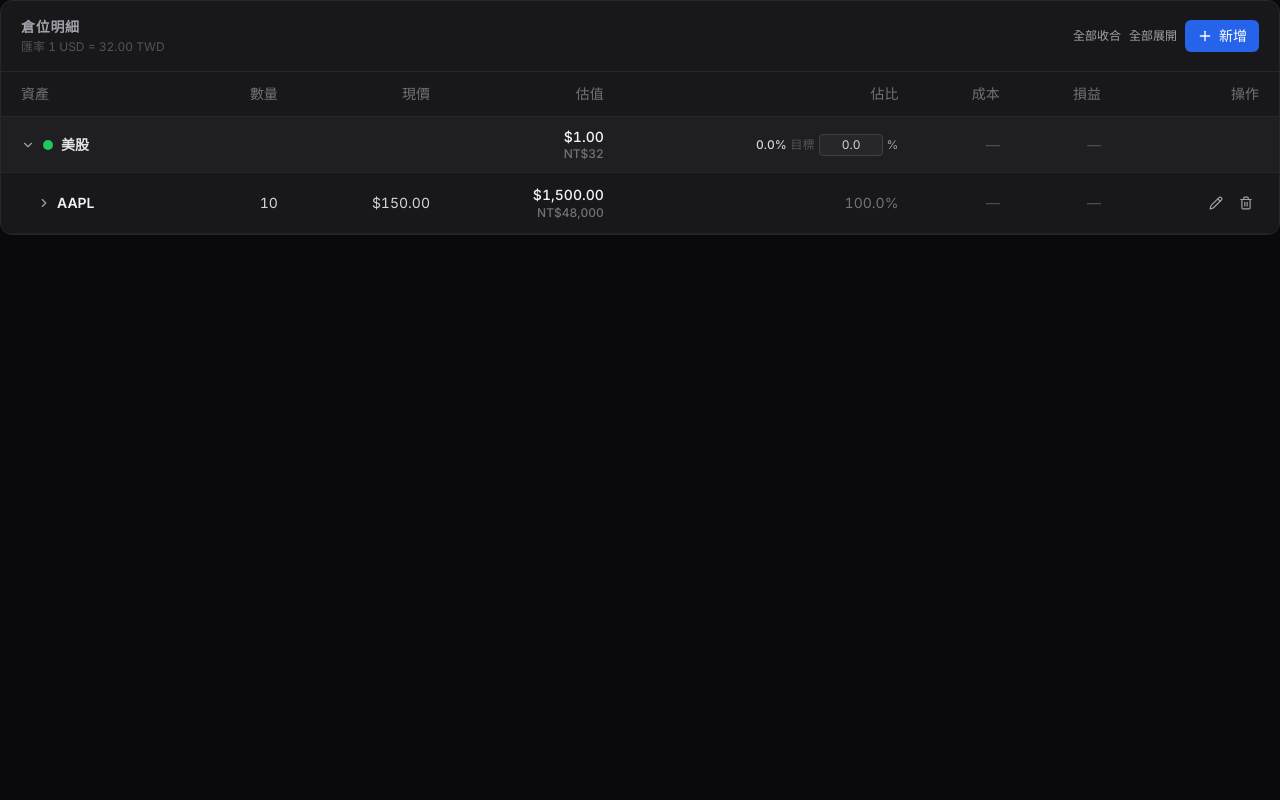
PositionTable › trash button does not toggle expand, shows position confirm dialog
Note: Expand first
Click the text "AAPL". click: x=76, y=203
box: top-left (57, 193), bottom-right (94, 213)
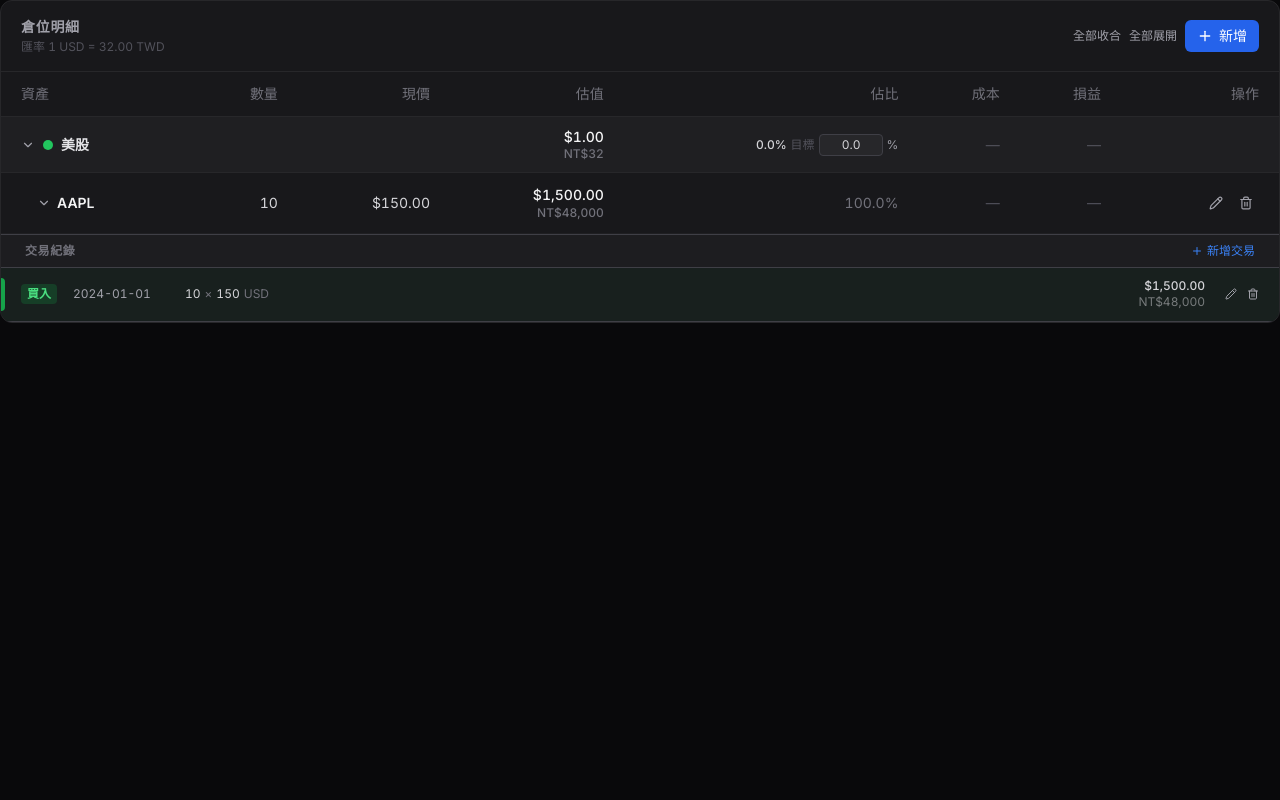
Expected: the text "買入" is shown, top-left (21, 284), bottom-right (57, 304)
Note: Click position delete — sub-table stays open, dialog appears
Click the button titled "刪除". click: x=1246, y=203
box: top-left (1233, 190), bottom-right (1259, 216)
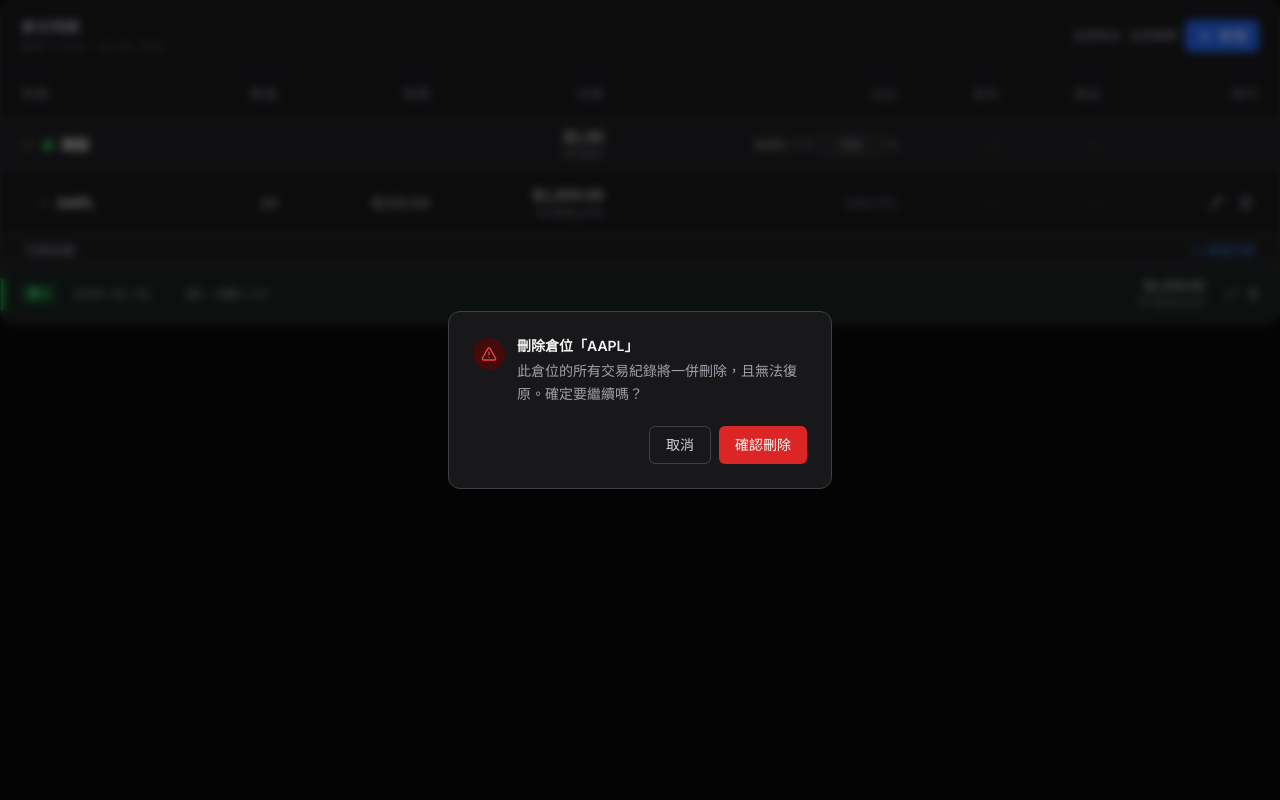
Expected: the text "買入" is shown, top-left (21, 284), bottom-right (57, 304)
Expected: the heading "刪除倉位「AAPL」" is shown, top-left (517, 337), bottom-right (638, 354)
